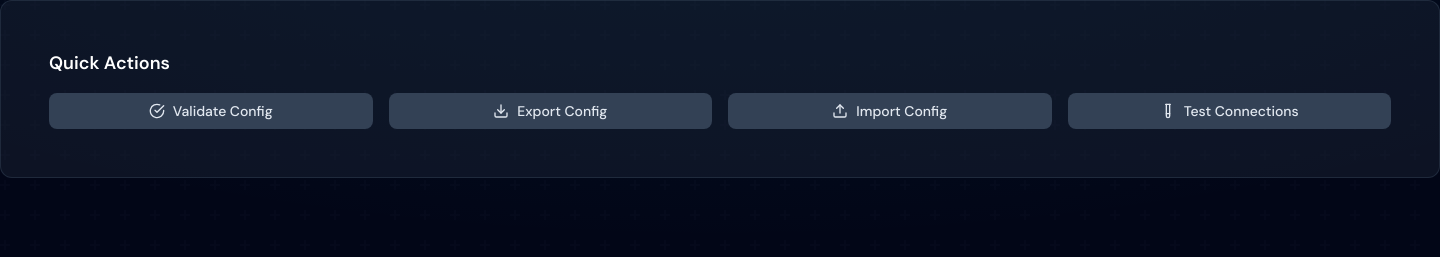
Test: ConfigQuickActions › shows validation error message
Click the button "Validate Config" at x=211, y=111, box left=49, top=93, right=372, bottom=129
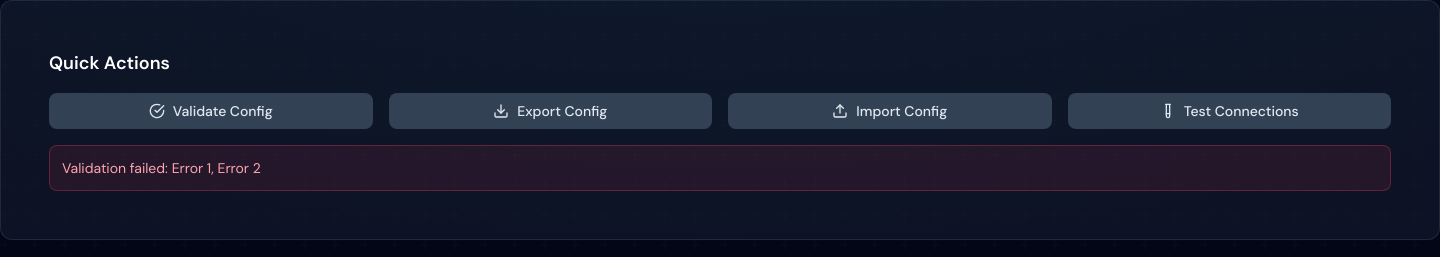
Expected: the text "Validation failed: Error 1, Error 2" is shown, left=62, top=159, right=261, bottom=177
